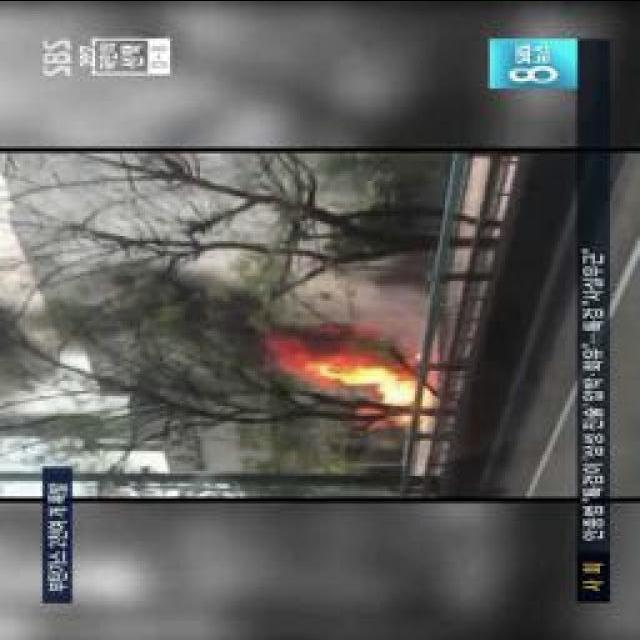Fire: (280, 321, 386, 393), (378, 361, 439, 418)
